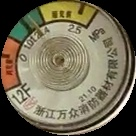green: (10, 8, 47, 44)
needle: (28, 13, 46, 39)
red: (1, 37, 23, 94)
yellow: (39, 2, 98, 27)
